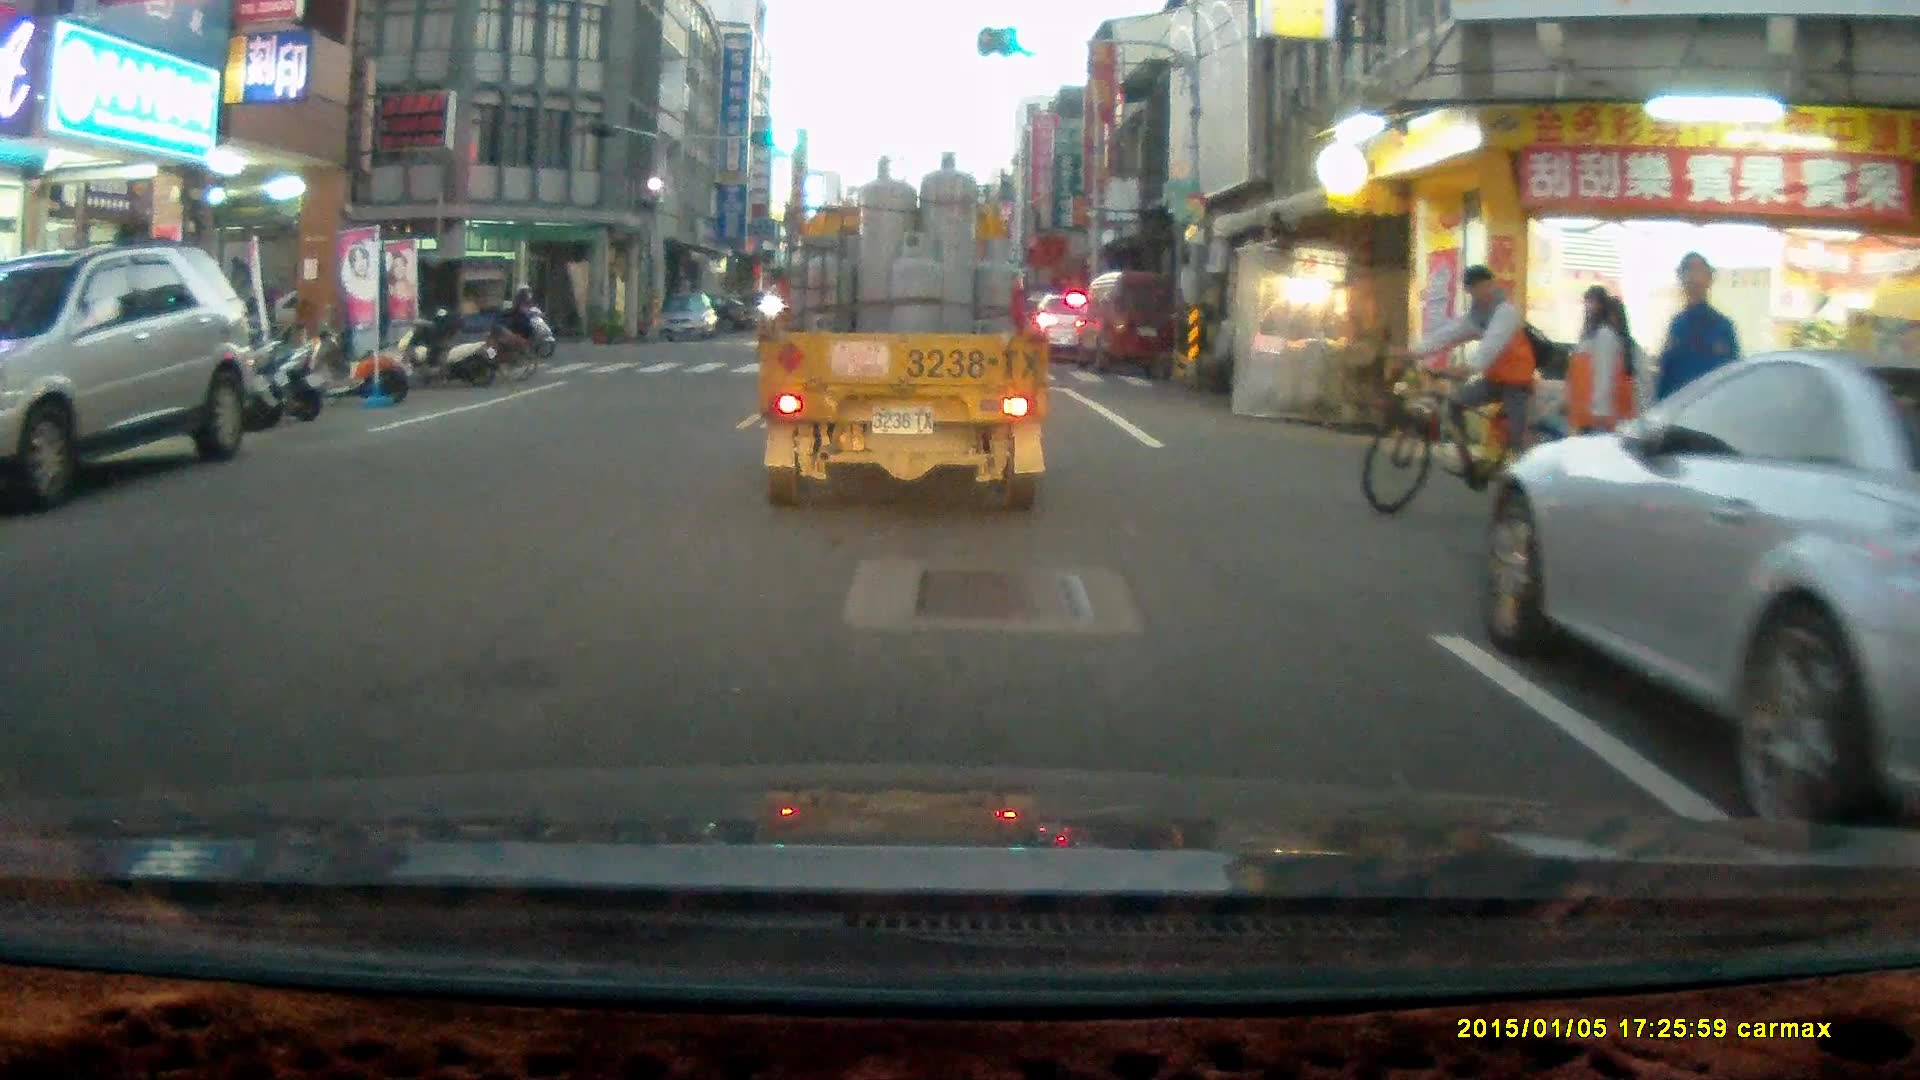pedestrian: (1654, 251, 1740, 535), (1566, 283, 1626, 512)
rider: (1362, 262, 1579, 521), (483, 282, 549, 366)
vehicle: (1481, 345, 1920, 816), (753, 161, 1040, 517), (1, 244, 257, 517), (333, 254, 506, 365), (1081, 267, 1183, 379), (1030, 293, 1096, 360), (655, 291, 721, 348)
